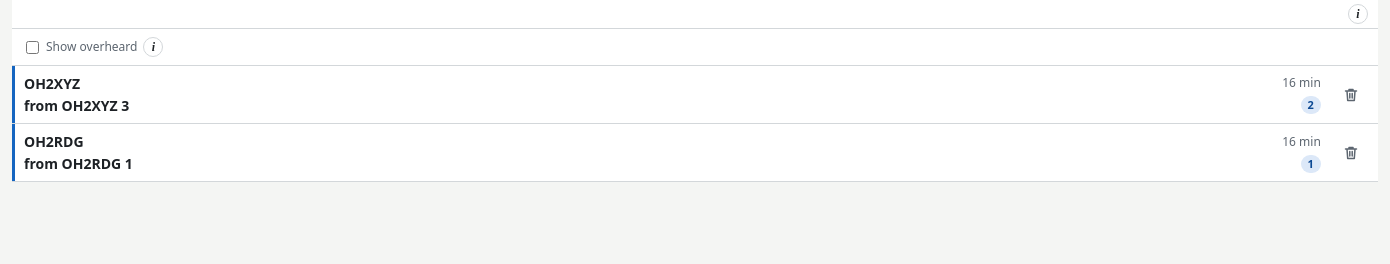
Test: the messages not seen, narrow only › counts a conversation as not seen again after going back to the list, and a message that comes in then as not seen
Click the button with class "conv" showing "OH2XYZ 16 min from OH2XYZ 3 2". click: x=52, y=84
box: [12, 66, 1325, 123]
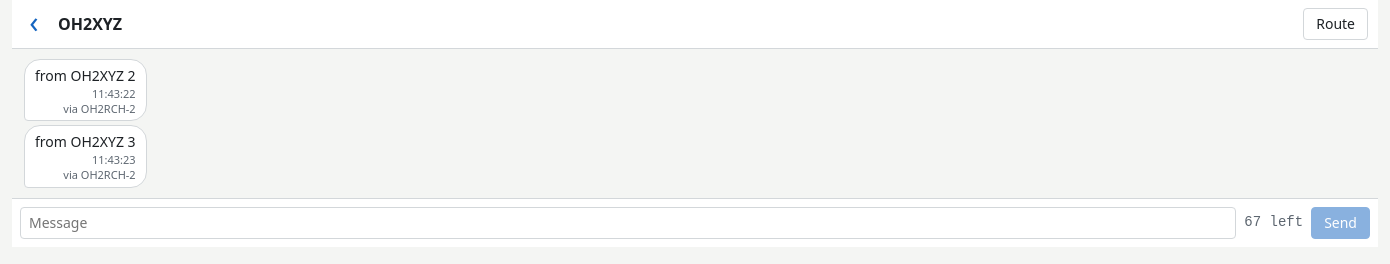
Click the button with class "convo-back". click: x=34, y=24
box: [16, 6, 52, 42]
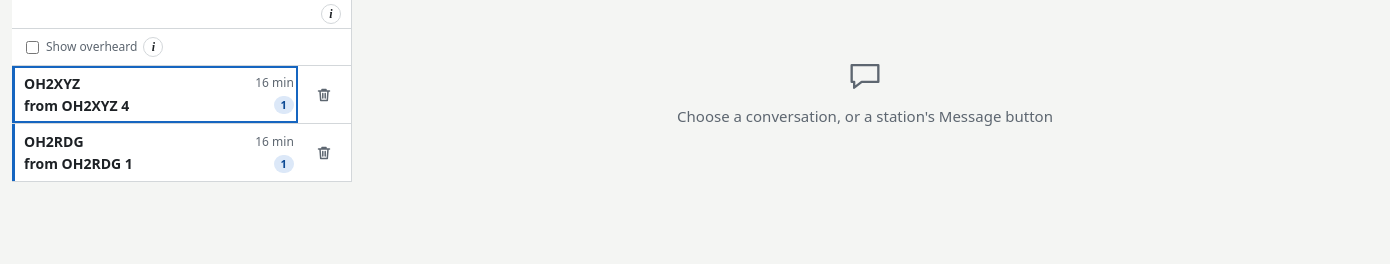
Expected: the 1st text with class "badge" reads "1", [280, 97, 287, 112]
